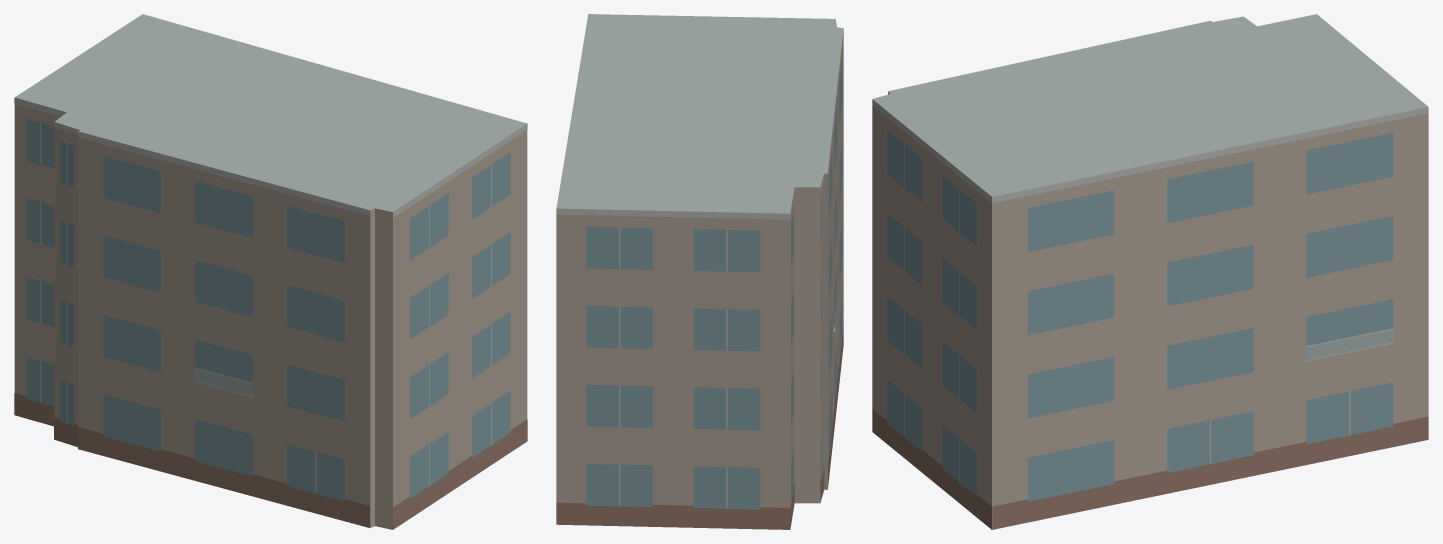
The model's file is survey-upis-32763848.glb.
3 views of the same model, side by side, from view 1: azimuth 30°, elevation 25°; view 2: azimuth 150°, elevation 25°; view 3: azimuth 270°, elevation 25° (orthographic). The views are drawn at different scales.
Parts seen in each view (by area): view 1: survey-upis-32763848.tmp; view 2: survey-upis-32763848.tmp; view 3: survey-upis-32763848.tmp.
Part boxes in pixels (<box>): survey-upis-32763848.tmp: <box>14,14,527,529</box>; survey-upis-32763848.tmp: <box>556,14,843,529</box>; survey-upis-32763848.tmp: <box>872,14,1428,529</box>.
Bounding box in the file's own units: 15.1 × 12.8 × 19.4.
